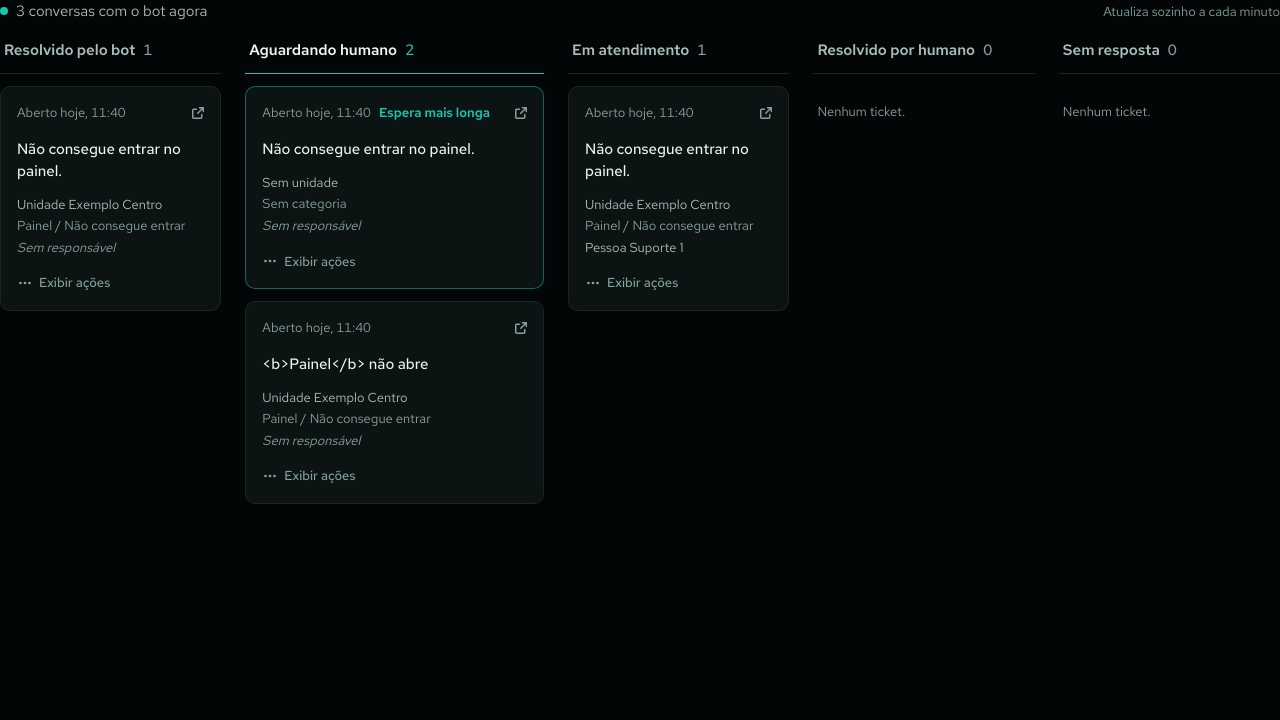
it: BoardView › moves a ticket from its details and keeps them open on the moved ticket
Step 1. Click the button named "ver detalhes" → (397, 365), box [262,354,531,376]
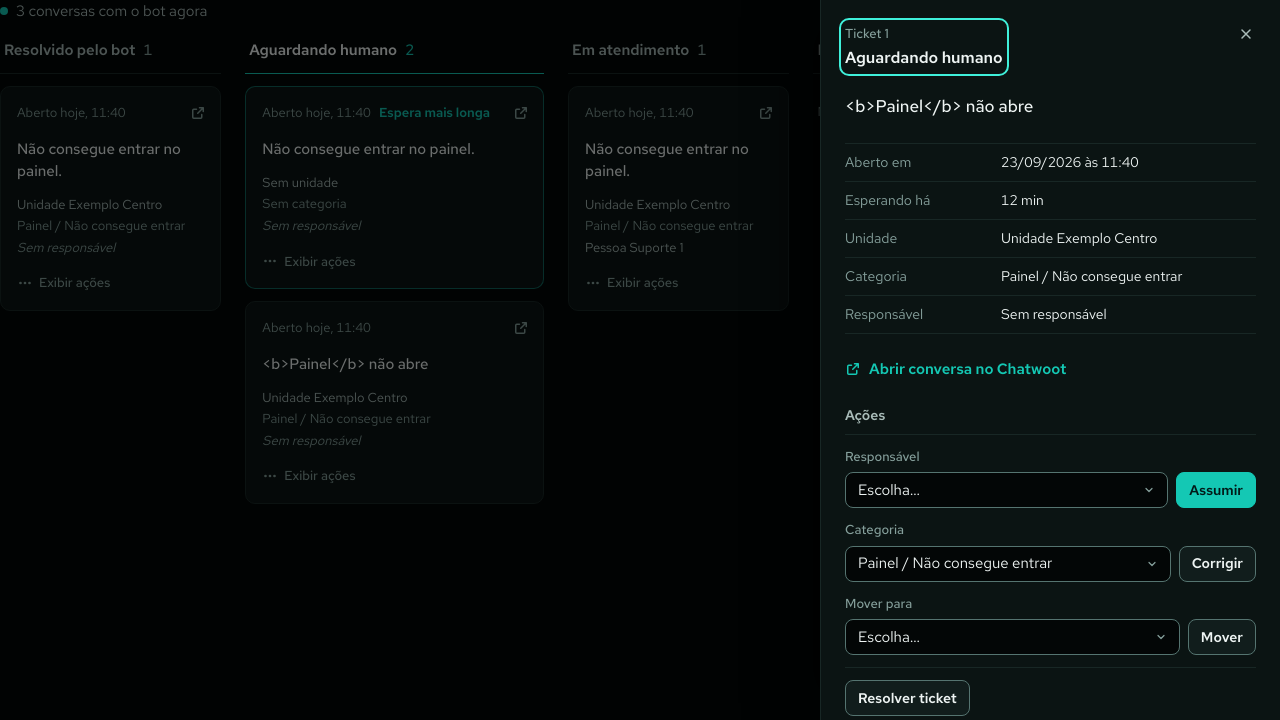
Step 2. Select "Em atendimento" in the dropdown labelled "Mover para" → (1012, 637), box [845,619,1180,655]
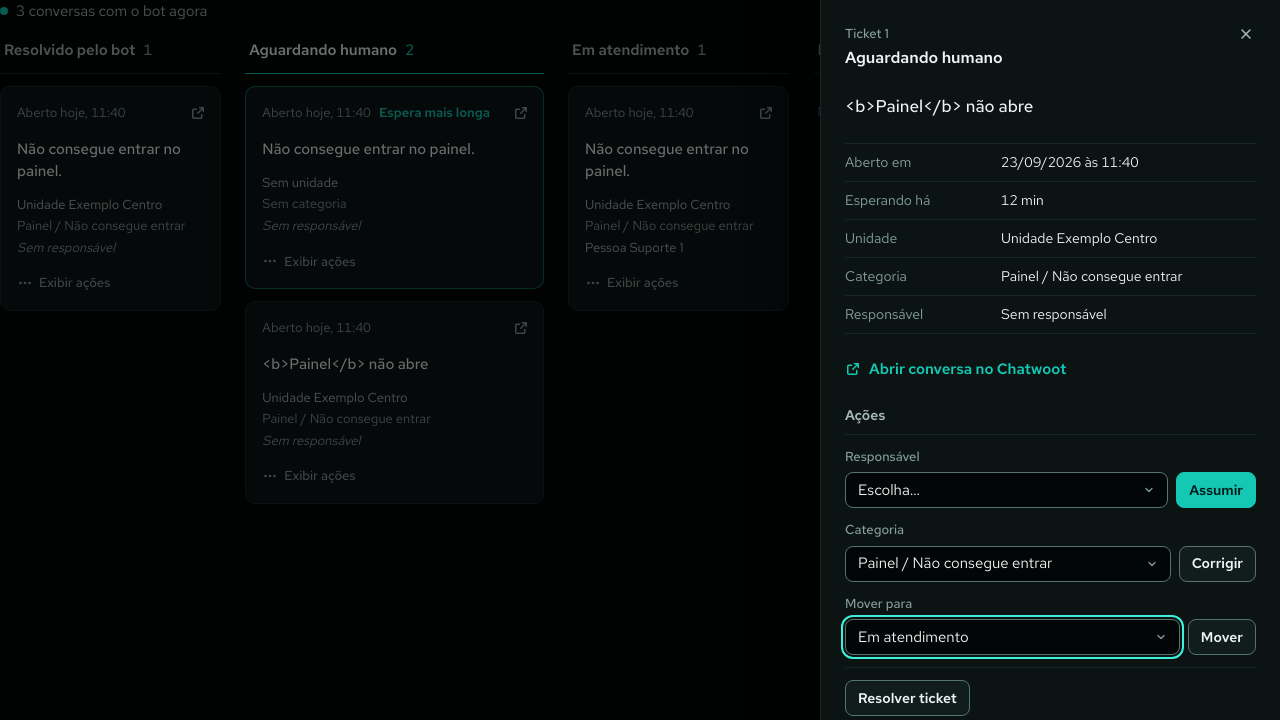
Step 3. Click the button "Mover" → (1222, 637), box [1188,619,1256,655]
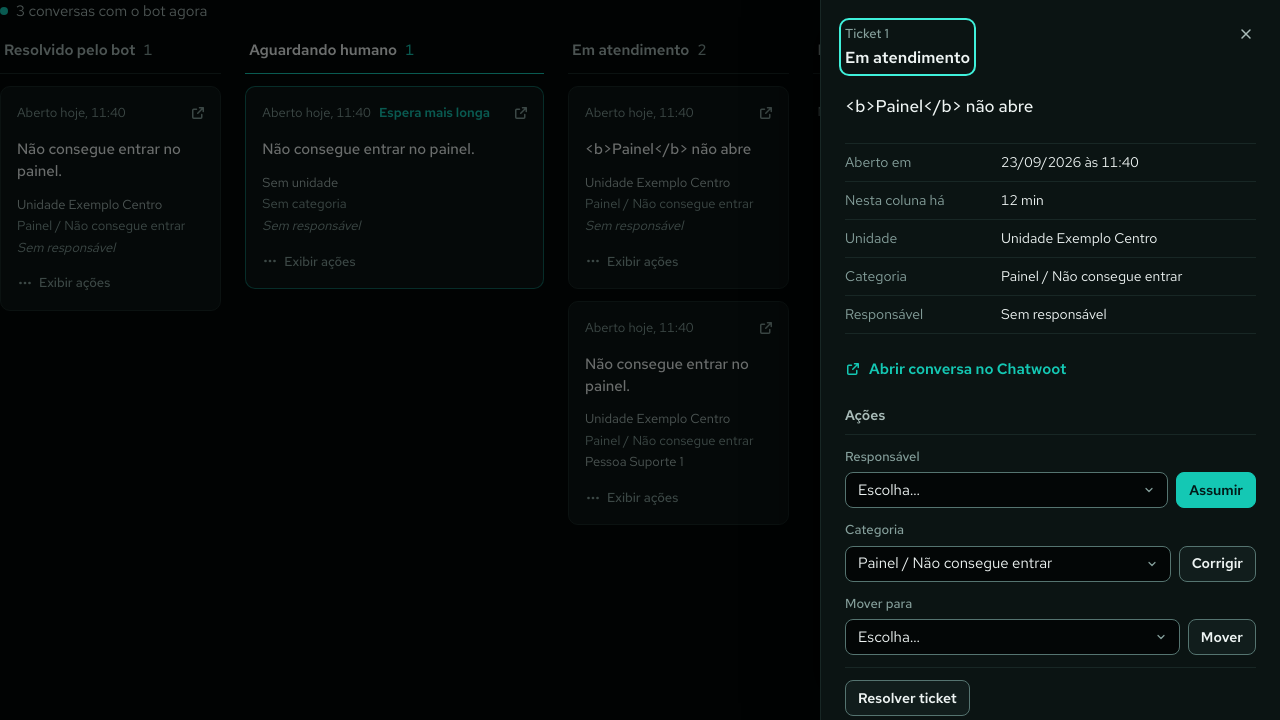
Check: the dialog shows "Em atendimento", box [845,46,970,68]
